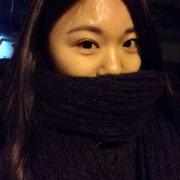WRONG: (60, 23, 143, 106)
